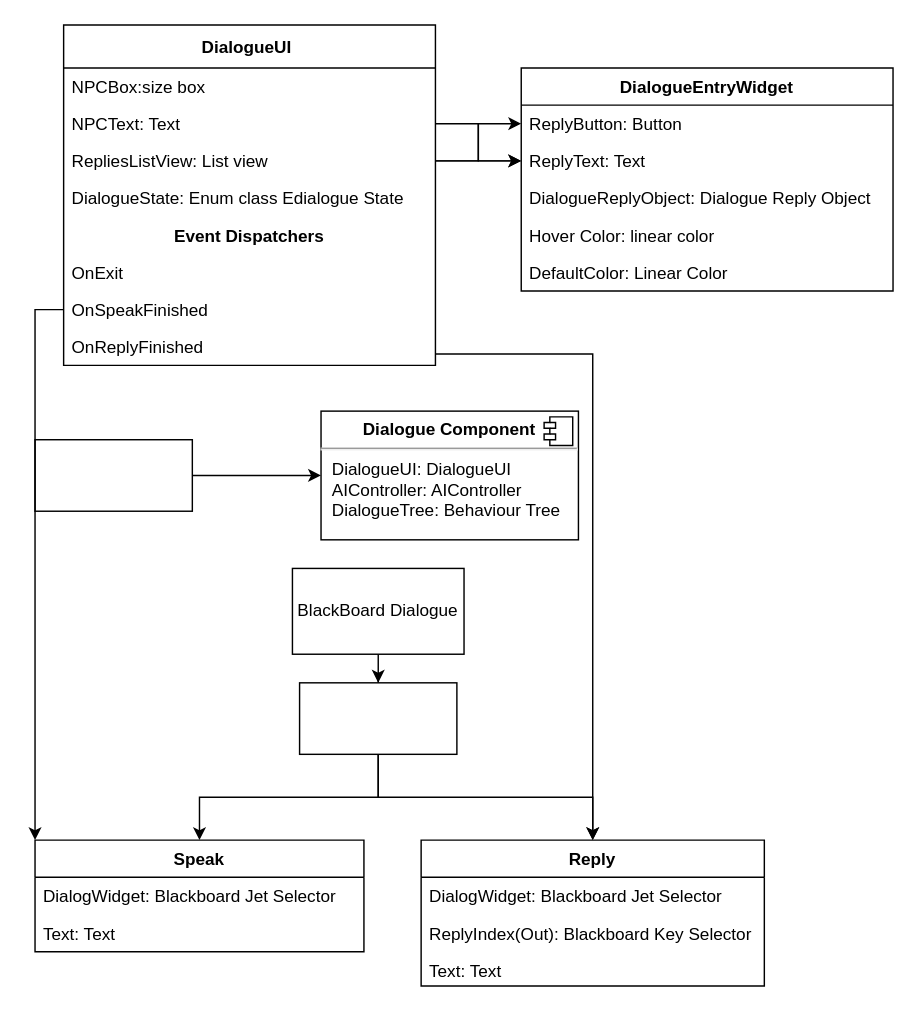
The diagram is 918 pixels wide and 1015 high, and some of its shapes have lost their labels. Here are the shapes that lost their labels. From the top down, the centre of each, then its label:
At (x=113, y=474): "«interface» On Interaction".
At (x=377, y=717): "Behaviour Tree".
